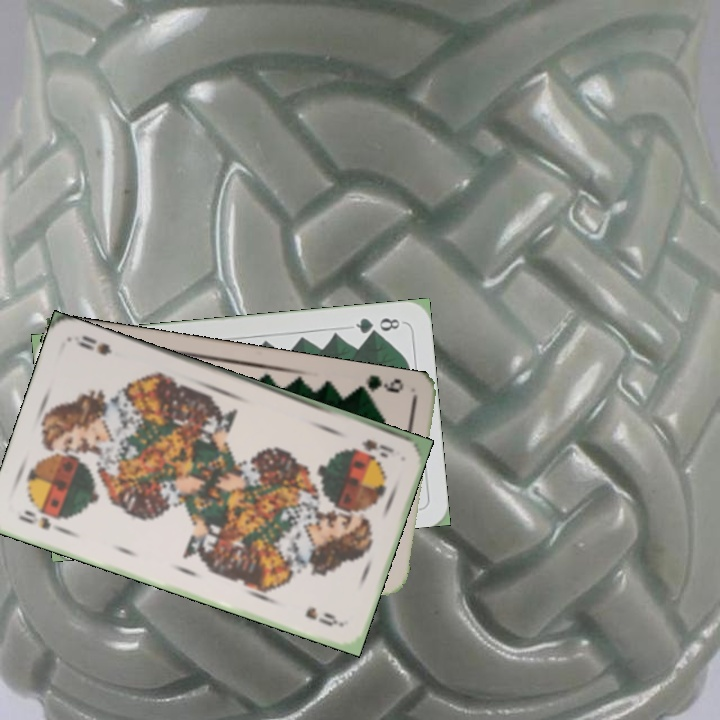G8: (351, 313, 403, 337)
G9: (352, 371, 406, 398)
SO: (14, 506, 69, 536), (357, 435, 397, 461)
